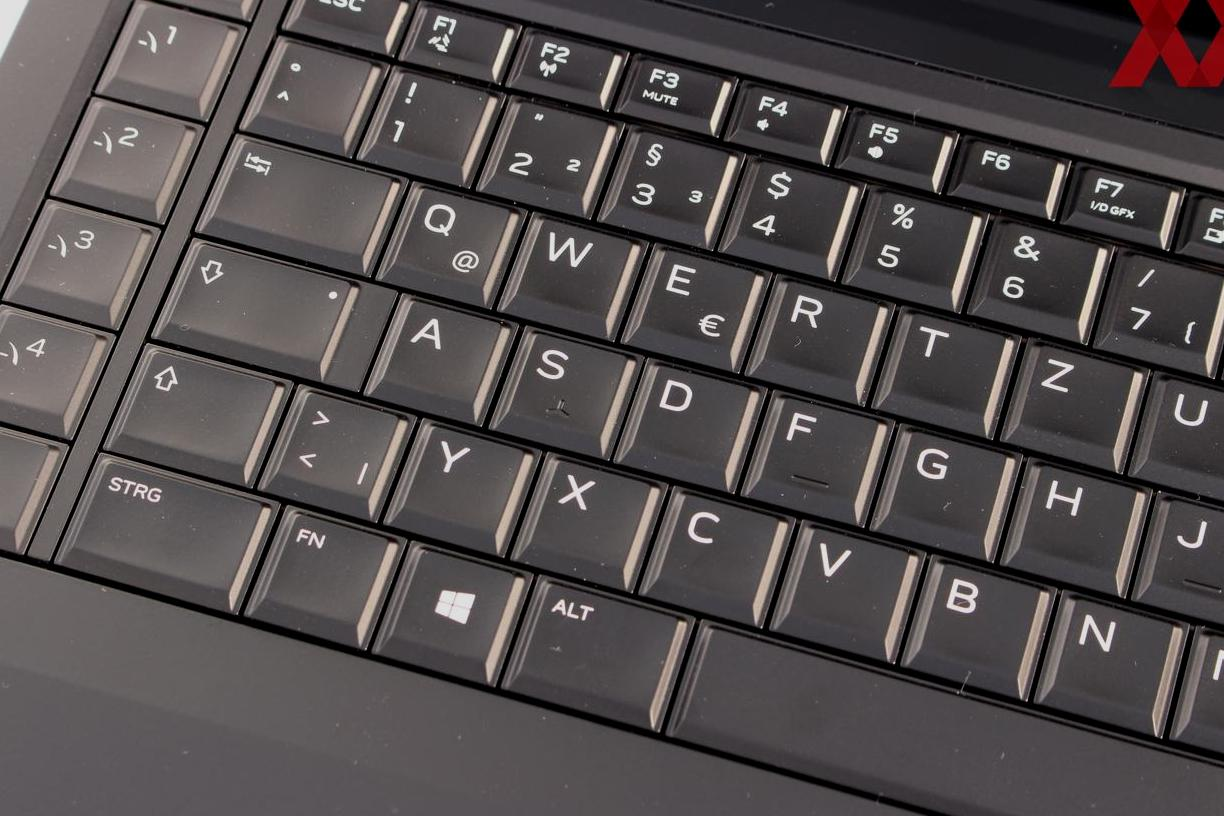1: (363, 66, 503, 178)
2: (480, 100, 620, 212)
3: (599, 124, 740, 245)
4: (719, 158, 860, 273)
5: (840, 188, 981, 303)
6: (970, 221, 1111, 336)
7: (1098, 248, 1224, 374)
a: (369, 297, 509, 419)
alt-left: (505, 581, 689, 734)
b: (905, 557, 1054, 694)
c: (638, 491, 791, 622)
caret: (238, 35, 378, 147)
d: (612, 360, 763, 490)
e: (624, 250, 769, 371)
f: (742, 392, 891, 523)
g: (868, 428, 1017, 559)
h: (1000, 461, 1149, 592)
j: (1134, 498, 1224, 629)
less: (255, 383, 412, 512)
m: (1173, 630, 1224, 773)
n: (1038, 595, 1187, 732)
q: (377, 184, 522, 305)
r: (744, 277, 889, 398)
s: (491, 330, 631, 452)
shift-left: (107, 349, 290, 487)
shift-lock: (155, 236, 368, 382)
space: (658, 621, 1224, 816)
strg-left: (56, 454, 280, 615)
t: (878, 308, 1018, 430)
tab: (197, 138, 402, 273)
u: (1132, 371, 1224, 500)
v: (769, 526, 922, 657)
w: (499, 213, 644, 334)
x: (510, 456, 667, 585)
y: (382, 423, 539, 552)
z: (1004, 343, 1149, 464)
